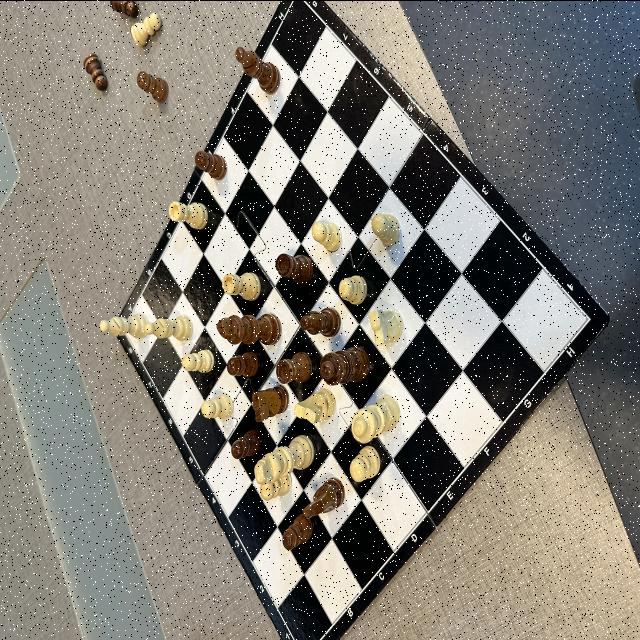Black-Bishop: (235, 46, 281, 94), (300, 306, 341, 336)
Black-King: (216, 312, 282, 345)
Black-Knight: (302, 476, 344, 518), (252, 384, 290, 422)
Black-Pawn: (282, 512, 312, 550), (136, 70, 168, 102), (82, 52, 108, 90), (195, 150, 227, 180), (231, 428, 261, 458), (226, 350, 258, 376), (110, 0, 138, 18)
Black-Queen: (320, 344, 370, 384)
Black-Rook: (275, 252, 313, 284), (276, 351, 312, 383)
White-Bishop: (100, 312, 150, 337), (145, 314, 193, 340)
White-King: (254, 434, 314, 484)
White-Knight: (294, 388, 336, 423), (368, 308, 404, 346)
White-Pawn: (130, 11, 162, 47), (350, 444, 380, 482), (370, 212, 400, 244), (312, 220, 342, 250), (338, 274, 368, 304), (202, 392, 234, 418), (260, 473, 292, 499), (182, 348, 214, 372)
White-Queen: (351, 394, 401, 442)
White-Rook: (222, 270, 261, 300), (168, 200, 208, 229)
